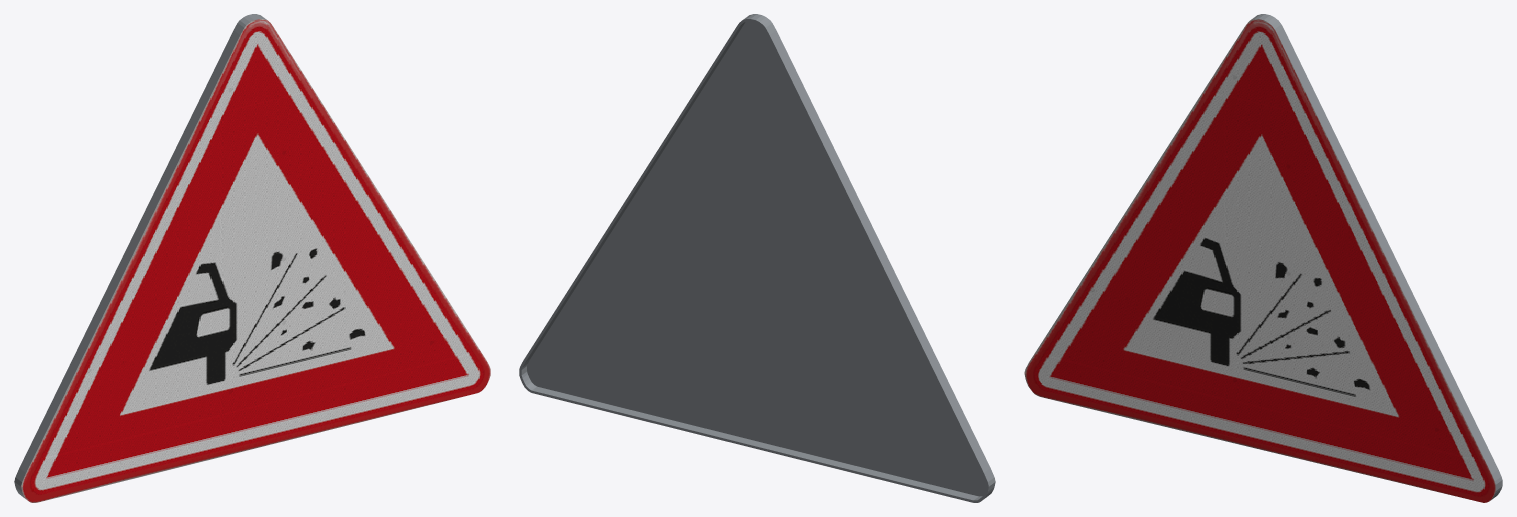
3 renders of one model, left to right at view 1: azimuth 30°, elevation 25°; view 2: azimuth 150°, elevation 25°; view 3: azimuth 330°, elevation 25°, orthographic.
Visible parts, largest first — view 1: cat_829d594e7ee3679a; view 2: cat_829d594e7ee3679a; view 3: cat_829d594e7ee3679a.
Part boxes in pixels (x1,y1,x2,y2): cat_829d594e7ee3679a: (14,14,490,502); cat_829d594e7ee3679a: (519,14,995,502); cat_829d594e7ee3679a: (1024,14,1502,502).
Size of the model in its own units: 0.6 by 0.015 by 0.5245.
2 materials, 1 textured.
